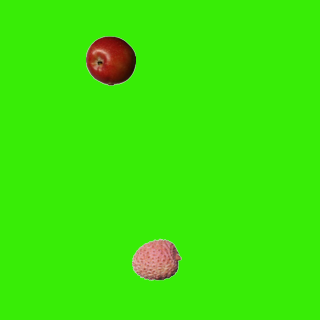Apple Braeburn: (85, 35, 135, 85)
Lychee: (131, 234, 181, 284)
